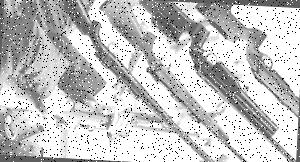rifle: (48, 0, 223, 162), (96, 0, 256, 162), (137, 0, 297, 162)
